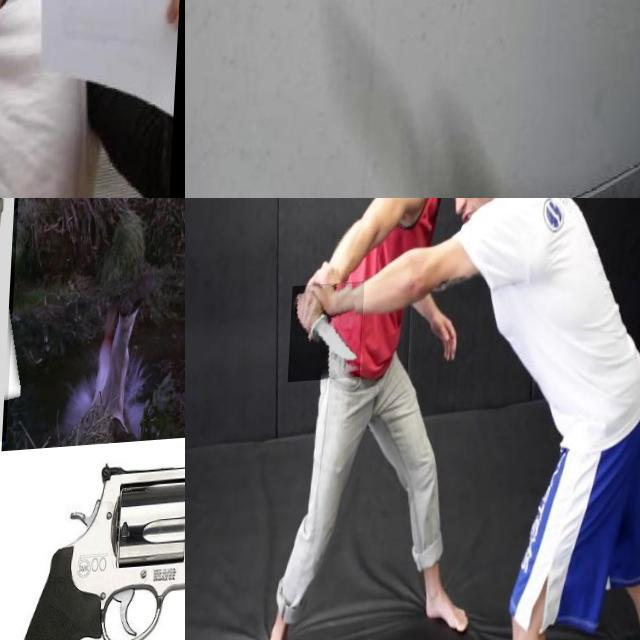-: (289, 0, 515, 117), (291, 285, 367, 385), (0, 0, 40, 164)
gun-knife-thesis - v11 Yolov5 augmented: (0, 198, 162, 465), (1, 451, 185, 640), (0, 460, 150, 640)
